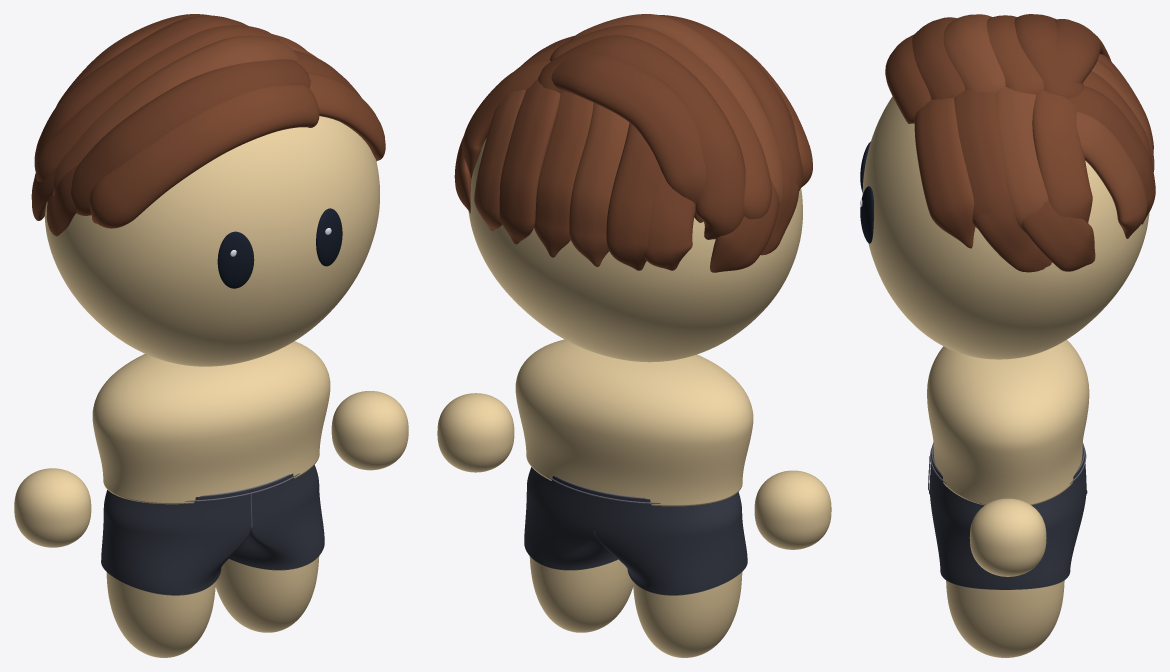
The model's file is Masculine-base.glb.
3 views of the same model, side by side, from view 1: azimuth 30°, elevation 25°; view 2: azimuth 150°, elevation 25°; view 3: azimuth 270°, elevation 25° (orthographic).
Visible parts, largest first — view 1: Skin / soft oval head, Skin / rounded torso, Clothing / fixed shorts, Hair / Side part main 0, Hair / Side part main 1, Hair / Side part main 2, Skin / leg blob -1, Skin / leg blob 1, Skin / orb hand -1, Skin / orb hand 1, Hair / Side part main 3, Hair / Side part main 4 (+7 smaller); view 2: Skin / rounded torso, Skin / soft oval head, Clothing / fixed shorts, Hair / Side part crown, Hair / Side part main 4, Skin / leg blob -1, Hair / Side part nape 2, Hair / Side part nape 4, Hair / Side part main 3, Hair / Side part nape 3, Skin / leg blob 1, Hair / Side part nape 1 (+11 smaller); view 3: Skin / soft oval head, Skin / rounded torso, Clothing / fixed shorts, Skin / leg blob 1, Hair / Side part short 0, Hair / Side part short 3, Skin / orb hand 1, Hair / Side part short 1, Hair / Side part short 2, Hair / Side part nape 5, Hair / Side part main 2, Hair / Side part low 1 1 (+11 smaller).
Boxes of the visible parts, bbox=[...] form: Skin / soft oval head: bbox=[44, 116, 379, 366]; Skin / rounded torso: bbox=[92, 341, 330, 504]; Clothing / fixed shorts: bbox=[101, 465, 324, 594]; Hair / Side part main 0: bbox=[89, 85, 319, 228]; Hair / Side part main 1: bbox=[71, 59, 310, 215]; Hair / Side part main 2: bbox=[53, 35, 298, 195]; Skin / leg blob -1: bbox=[106, 572, 215, 657]; Skin / leg blob 1: bbox=[215, 556, 319, 632]; Skin / orb hand -1: bbox=[14, 468, 91, 547]; Skin / orb hand 1: bbox=[331, 391, 408, 470]; Hair / Side part main 3: bbox=[35, 25, 279, 181]; Hair / Side part main 4: bbox=[34, 15, 247, 170]; Skin / rounded torso: bbox=[515, 339, 753, 506]; Skin / soft oval head: bbox=[468, 138, 802, 362]; Clothing / fixed shorts: bbox=[524, 467, 747, 594]; Hair / Side part crown: bbox=[551, 54, 706, 222]; Hair / Side part main 4: bbox=[538, 35, 745, 239]; Skin / leg blob -1: bbox=[633, 572, 742, 657]; Hair / Side part nape 2: bbox=[569, 103, 629, 267]; Hair / Side part nape 4: bbox=[499, 79, 560, 244]; Hair / Side part main 3: bbox=[549, 25, 771, 219]; Hair / Side part nape 3: bbox=[534, 91, 593, 257]; Skin / leg blob 1: bbox=[529, 556, 633, 632]; Hair / Side part nape 1: bbox=[606, 123, 661, 270]; Skin / soft oval head: bbox=[862, 96, 1149, 359]; Skin / rounded torso: bbox=[927, 340, 1089, 505]; Clothing / fixed shorts: bbox=[929, 443, 1087, 589]; Skin / leg blob 1: bbox=[946, 580, 1064, 657]; Hair / Side part short 0: bbox=[914, 98, 975, 248]; Hair / Side part short 3: bbox=[1032, 90, 1092, 222]; Skin / orb hand 1: bbox=[969, 498, 1046, 576]; Hair / Side part short 1: bbox=[954, 89, 1006, 228]; Hair / Side part short 2: bbox=[995, 86, 1048, 232]; Hair / Side part nape 5: bbox=[1076, 112, 1147, 238]; Hair / Side part main 2: bbox=[943, 14, 1005, 93]; Hair / Side part low 1 1: bbox=[1021, 201, 1095, 271].
Bounding box in the file's own units: 1.23 × 1.87 × 0.8319.
